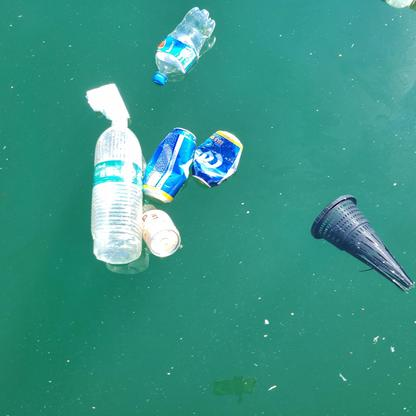can: (143, 127, 195, 203), (193, 128, 244, 188), (141, 206, 180, 258)
plastic bottle: (88, 112, 143, 266), (153, 8, 216, 84)
